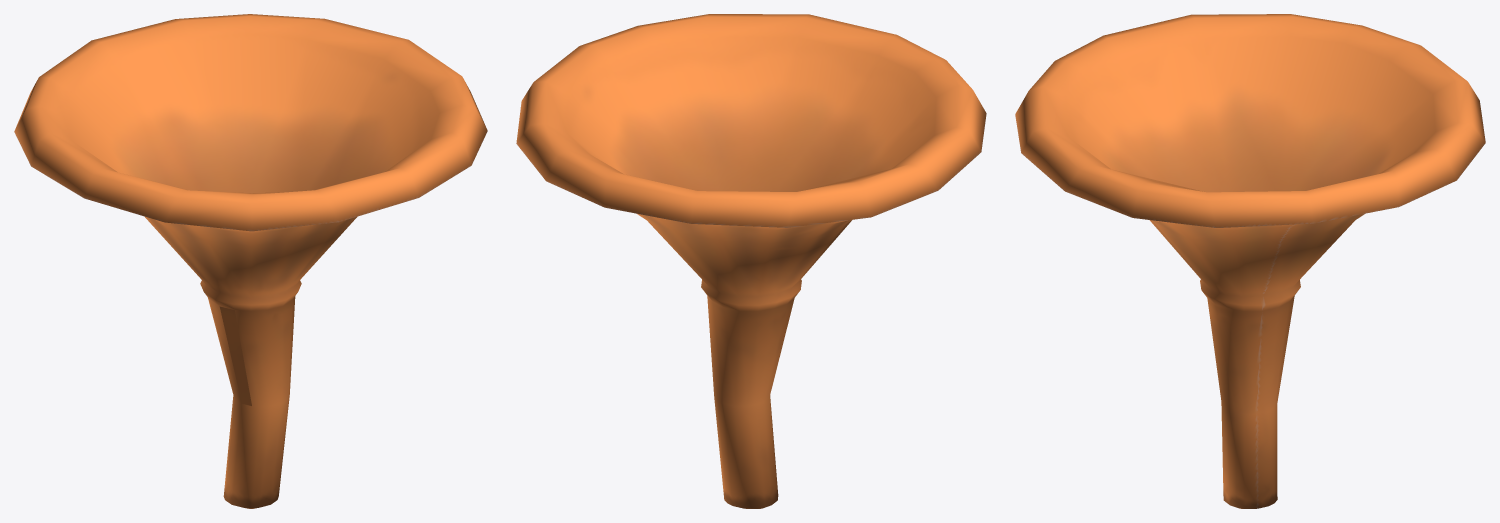
File: Mushroom_15.fbx
3 views of the same model, side by side, from view 1: azimuth 30°, elevation 25°; view 2: azimuth 150°, elevation 25°; view 3: azimuth 270°, elevation 25° (orthographic).
Visible parts, largest first — view 1: Mushroom_15; view 2: Mushroom_15; view 3: Mushroom_15.
Part boxes in pixels (box(x1,y1,x2,y2)): Mushroom_15: box(14, 14, 487, 508); Mushroom_15: box(516, 14, 986, 508); Mushroom_15: box(1015, 14, 1485, 508).
Bounding box in the file's own units: 28.85 × 26.8 × 28.85.
1 material, 1 textured.
